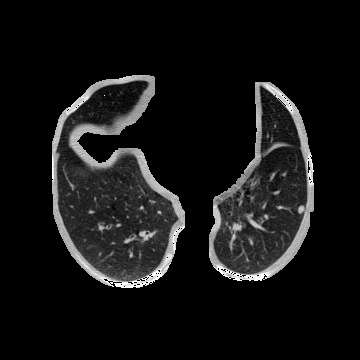PN: (297, 205, 305, 213)
